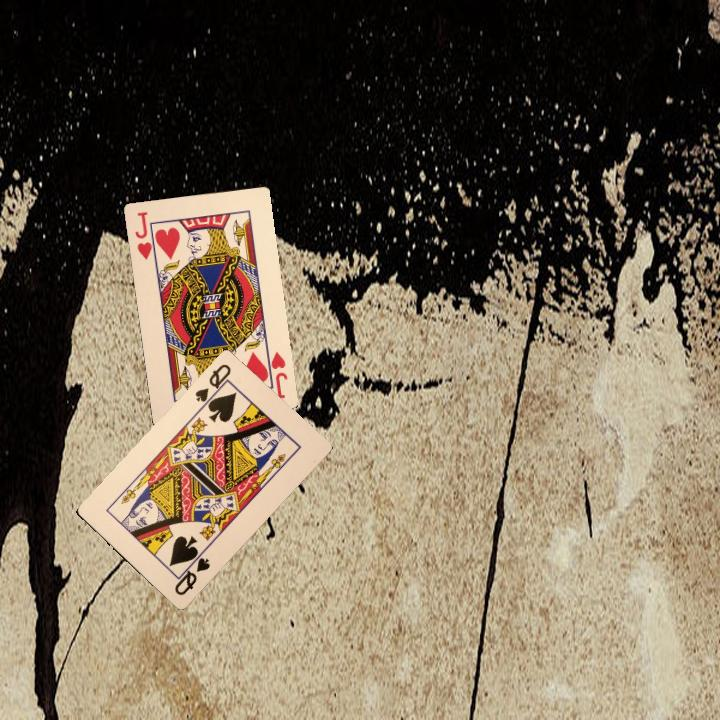Jh: (131, 207, 159, 262), (262, 348, 290, 401)
Qs: (170, 547, 213, 598), (191, 360, 233, 409)
